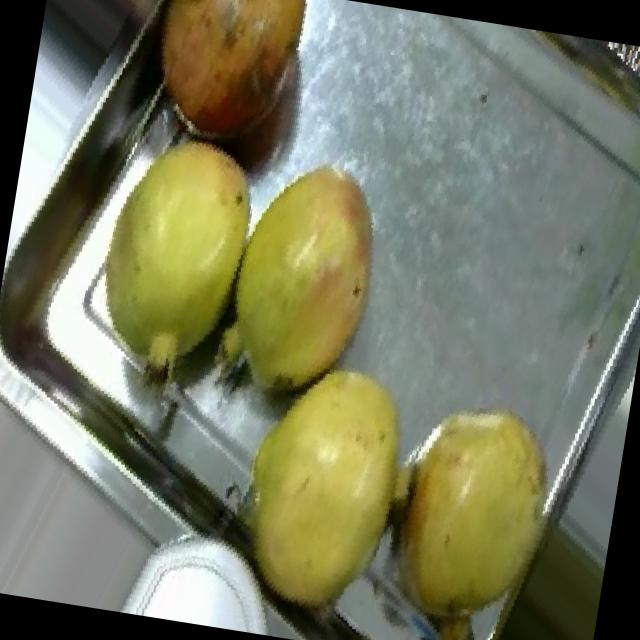fruit: (196, 324, 440, 612), (195, 126, 413, 421), (110, 0, 342, 181)
